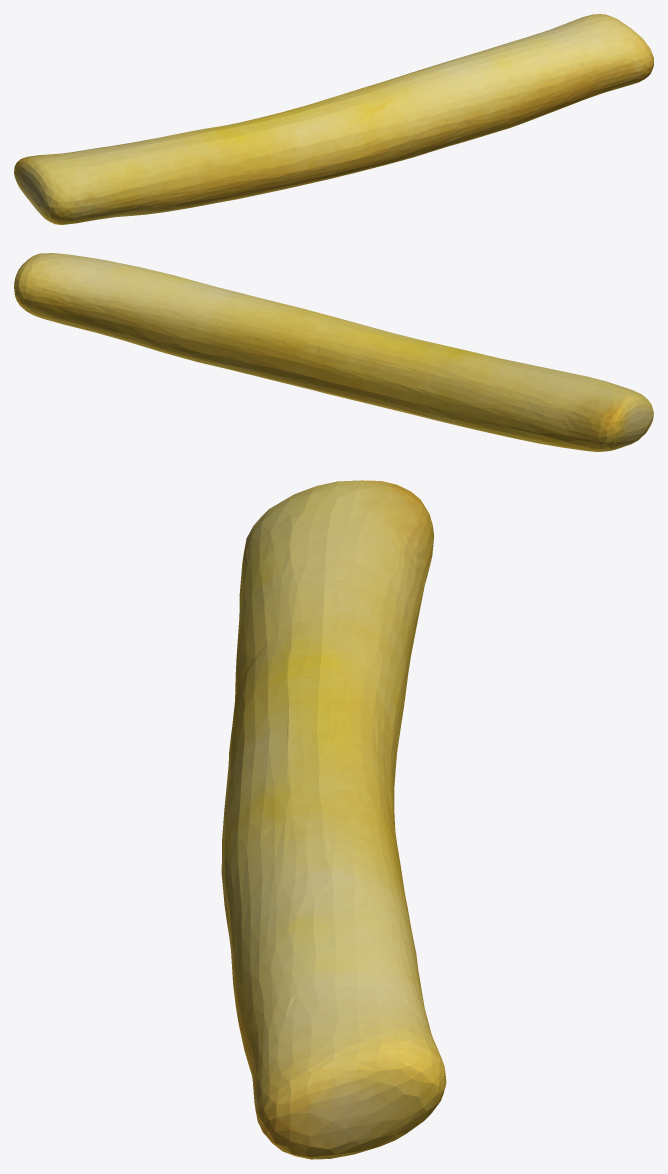
File: fries.glb
3 renders of one model, top to bottom at view 1: azimuth 30°, elevation 25°; view 2: azimuth 150°, elevation 25°; view 3: azimuth 270°, elevation 25°, orthographic. The views are drawn at different scales.
Parts seen in each view (by area): view 1: world; view 2: world; view 3: world.
Boxes of the visible parts, x1,y1,x2,y2 form: world: (14,14,653,224); world: (14,253,653,451); world: (221,480,446,1159).
Bounding box in the file's own units: 0.9997 × 0.1142 × 0.1599.
1 material, 1 textured.
